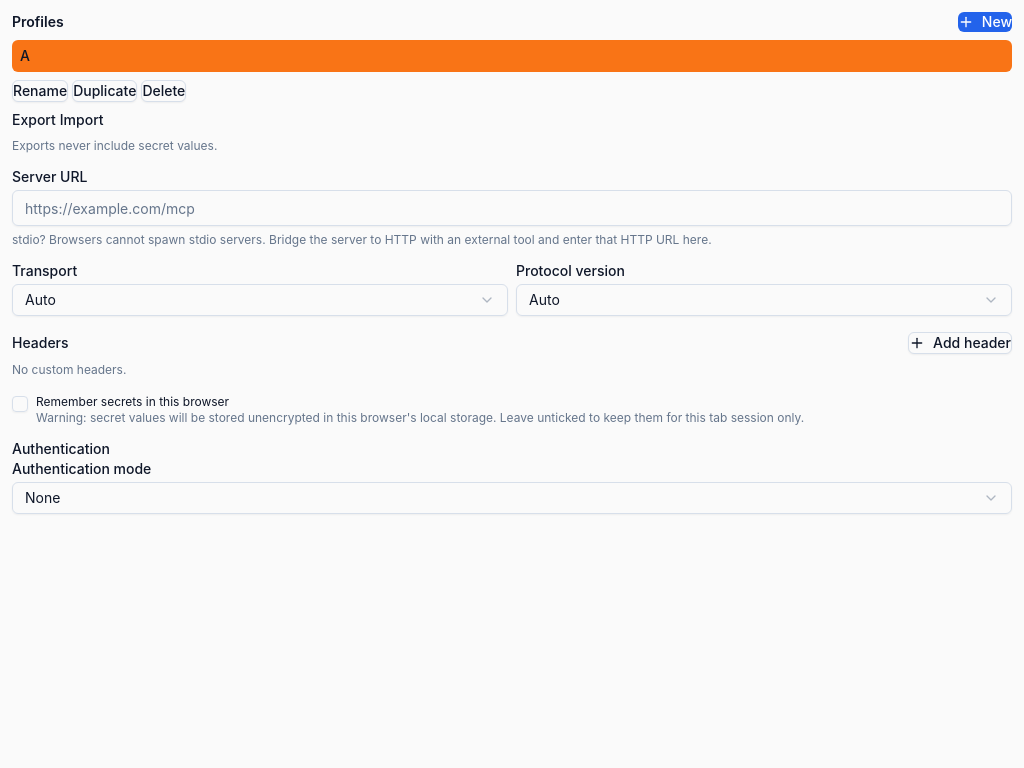
persistSecrets › shows an inline error when ticking cannot reach persistent storage
Click the button "Add header". click: (960, 343)
box: left=908, top=332, right=1012, bottom=354
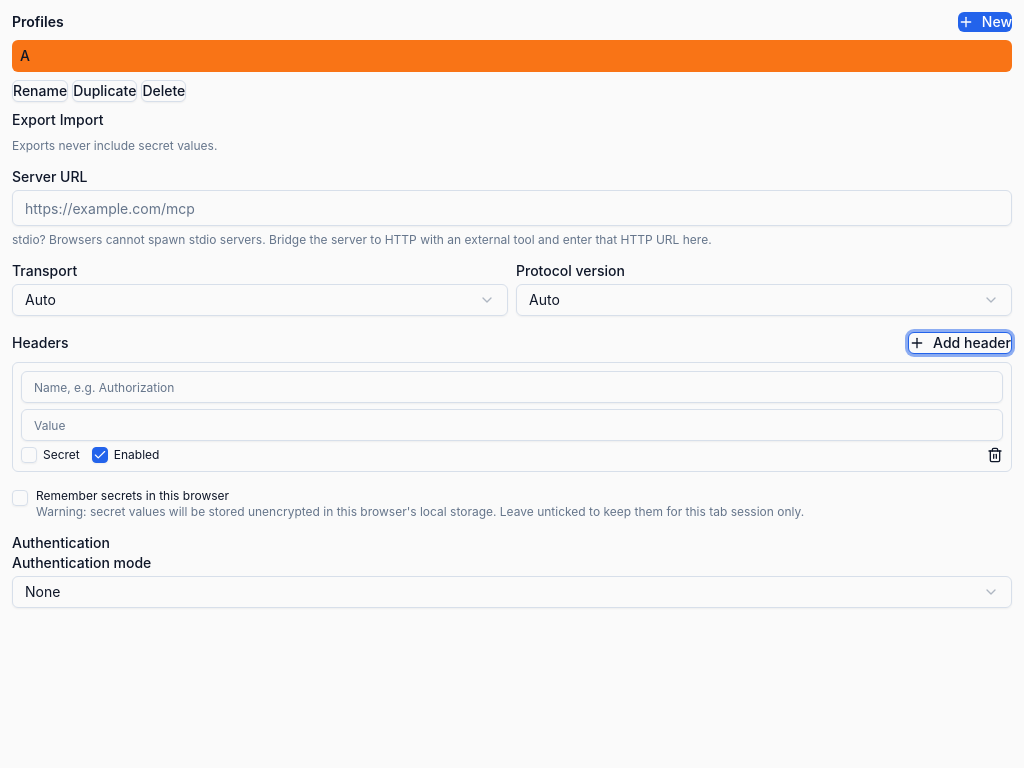
Type "Authorization" into the field named "Header 1 name". click: (512, 387)
box: left=21, top=371, right=1003, bottom=403
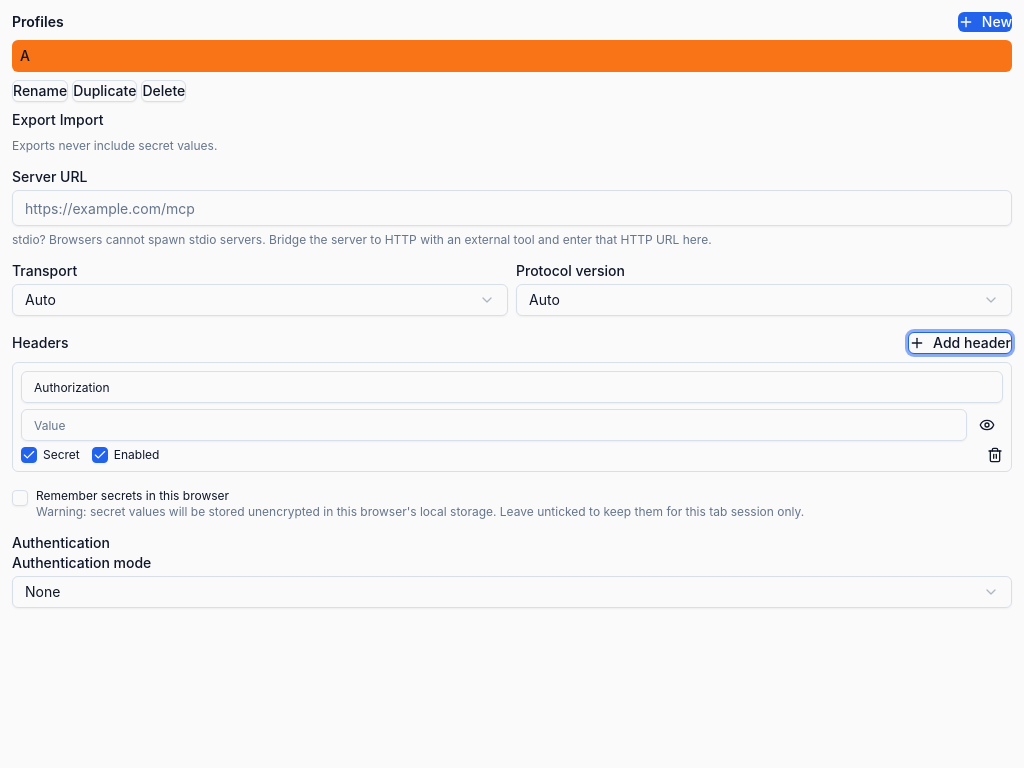
Type "Bearer Q" into the password field named "Header 1 value". click: (494, 425)
box: left=21, top=409, right=967, bottom=441
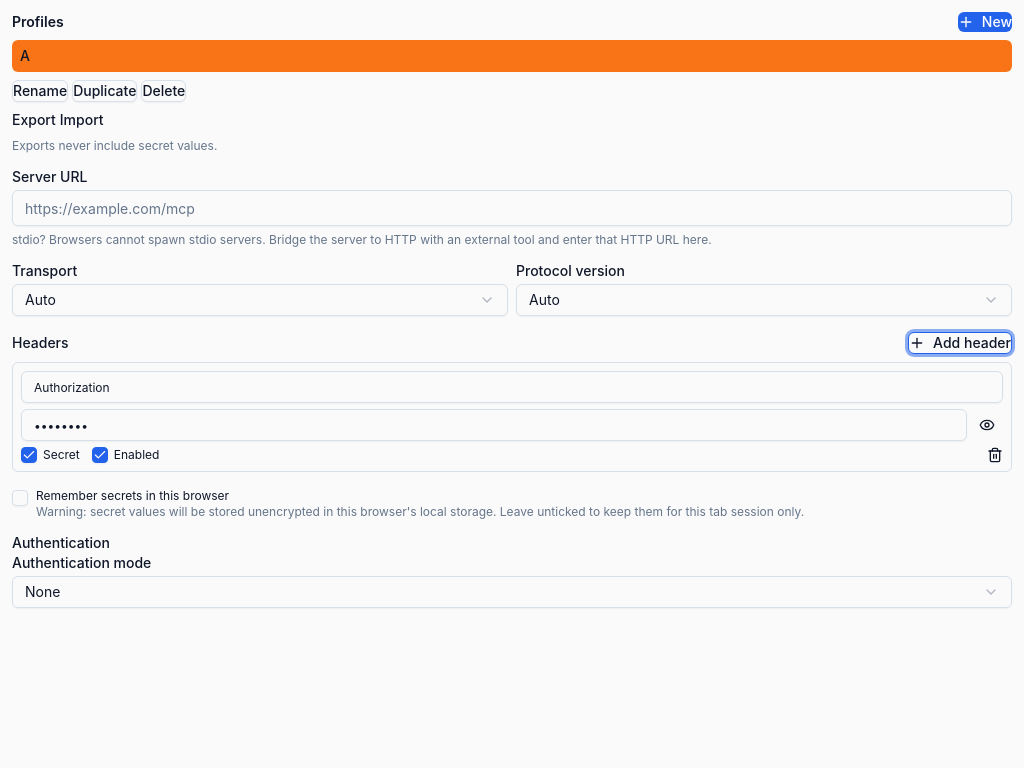
Click the checkbox named "Remember secrets". click: (20, 498)
box: left=12, top=490, right=28, bottom=506
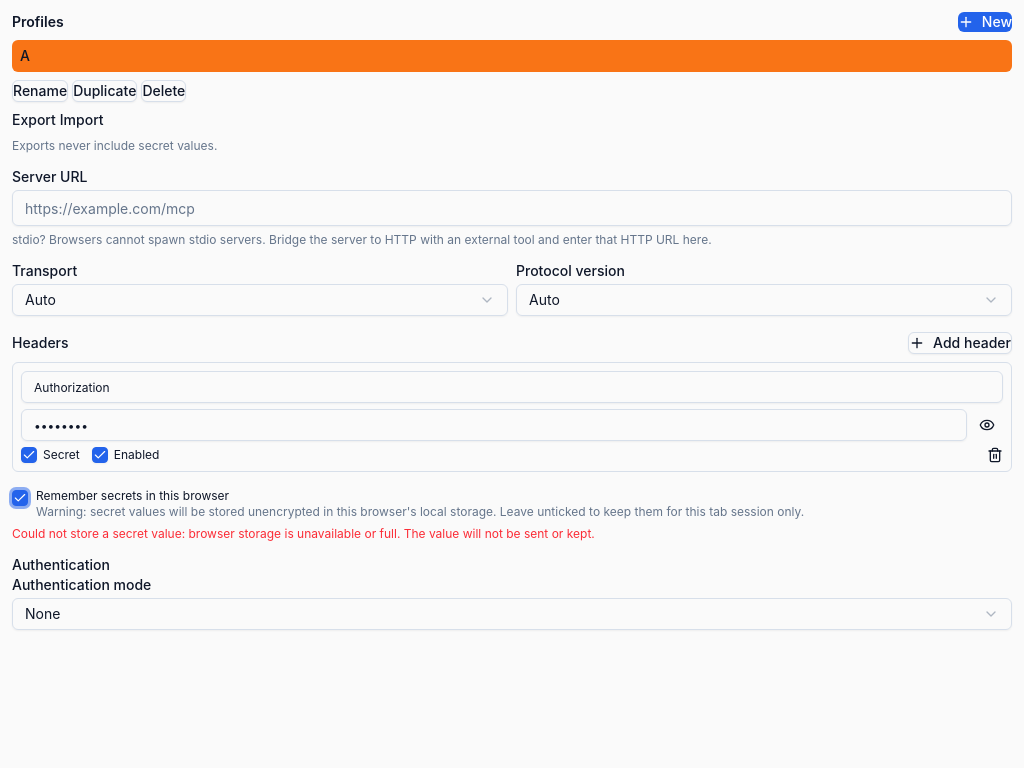
Expected: the message shows "Could not store a secret", left=12, top=526, right=595, bottom=541
